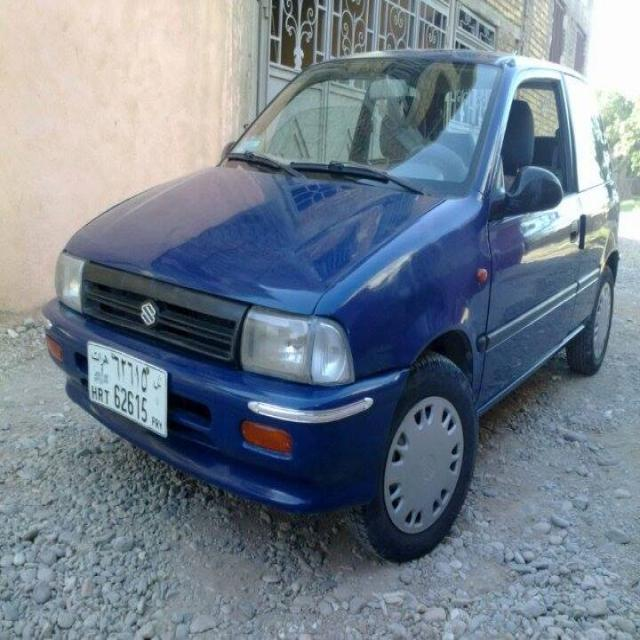Plate: (85, 340, 167, 442)
